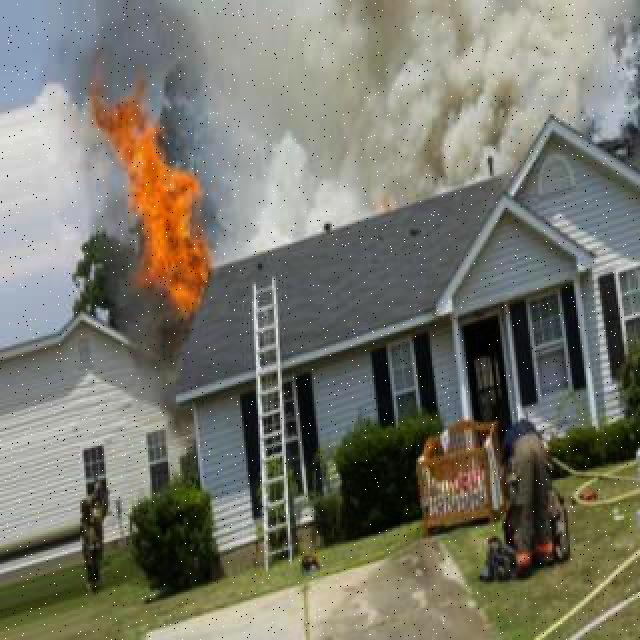fire: (95, 103, 209, 312)
smoke: (208, 1, 640, 162)
